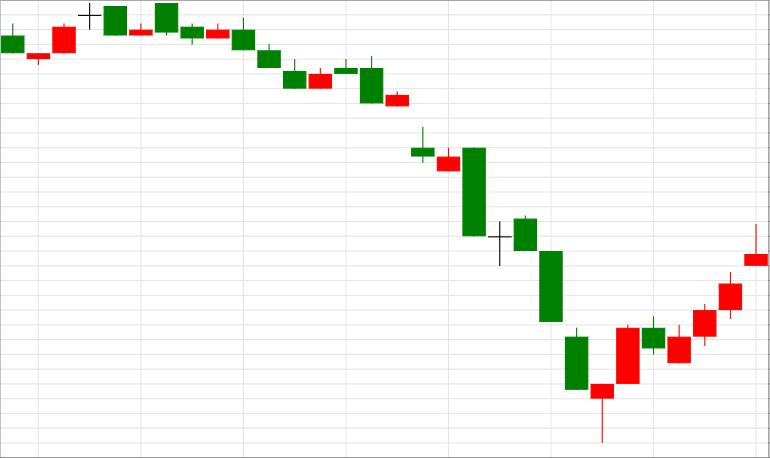morning_star_rise: (462, 147, 640, 443)
